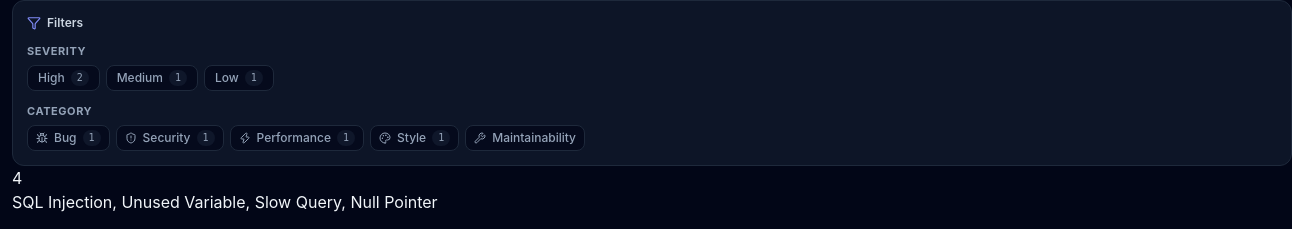
Test: FilterBar & Issue Filtering Logic › supports multi-select filters and combined category filter
# Click High severity
What coordinates should you click on to do the following:
click the button with test id "filter-severity-high"
I would click on:
 (63, 78)
Its box is [27,65,100,91].
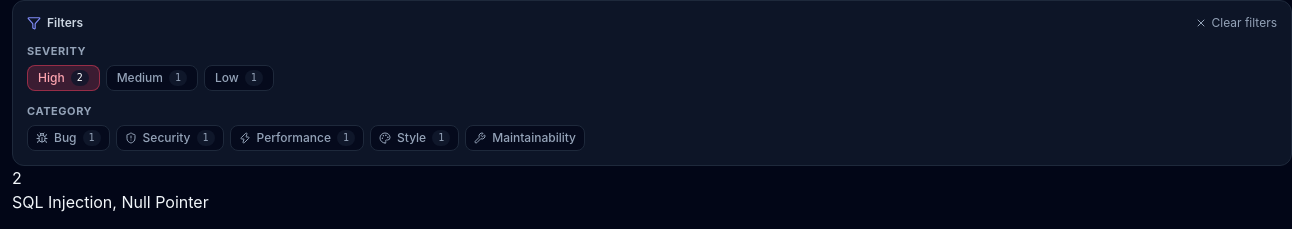
# Click Security category
What coordinates should you click on to do the following:
click the button with test id "filter-category-security"
I would click on:
 (170, 138)
Its box is [116,125,224,151].
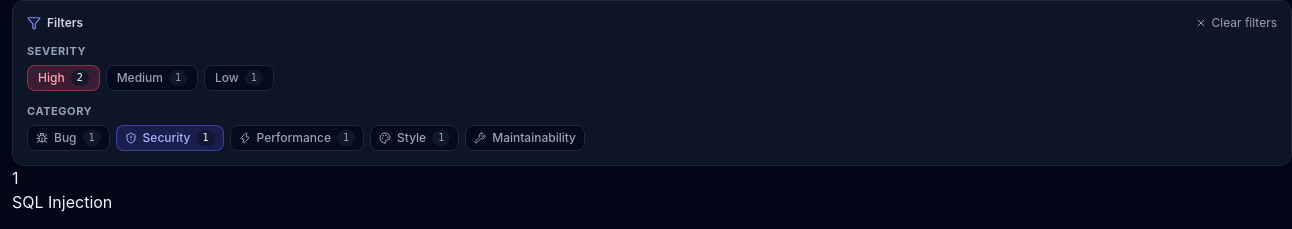
Expected: the text with test id "filtered-titles" reads "SQL Injection", [12,192,112,212]
Expected: the text with test id "filtered-count" reads "1", [12,168,18,188]
